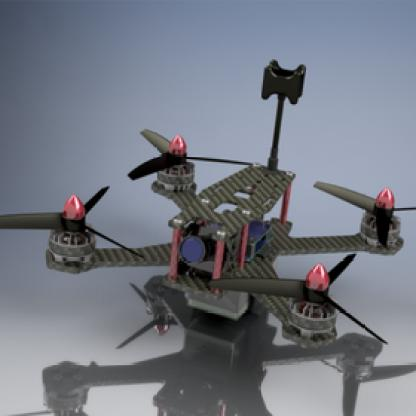drone: (6, 114, 414, 382)
